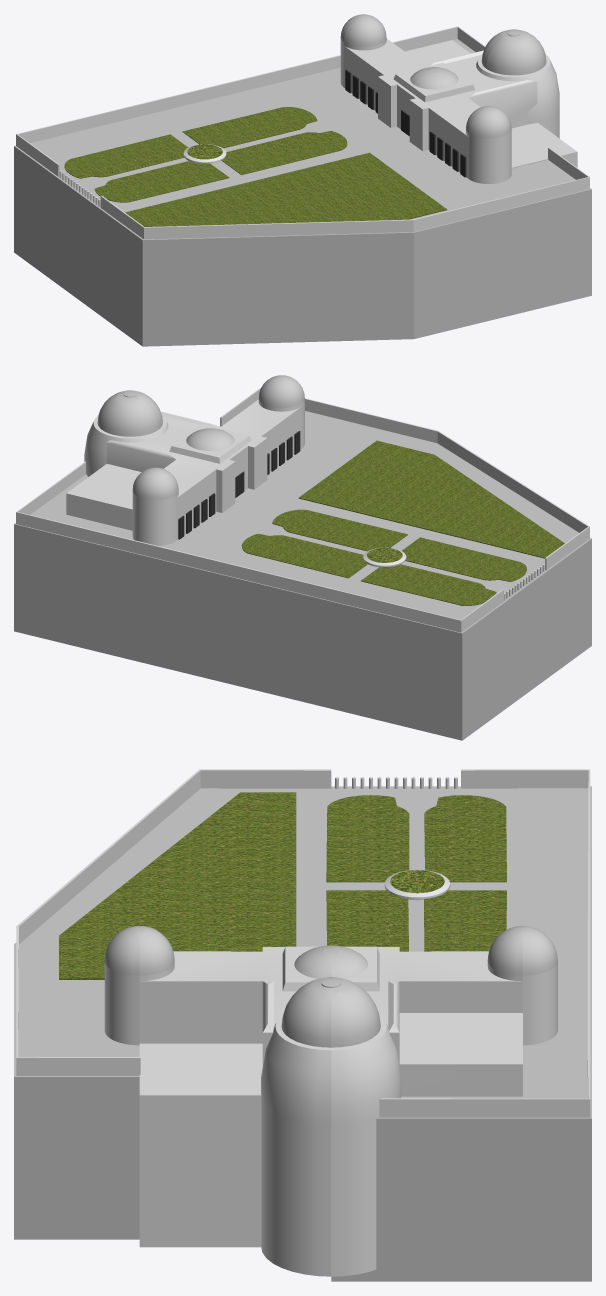
File: Obser.fbx
3 views of the same model, one above another, from view 1: azimuth 30°, elevation 25°; view 2: azimuth 150°, elevation 25°; view 3: azimuth 270°, elevation 25° (orthographic). The views are drawn at different scales.
Visible parts, largest first — view 1: Plane, Grass, Cube, Plane.001, Cylinder.001; view 2: Plane, Grass, Cube, Plane.001, Cylinder.001; view 3: Cube, Plane, Grass, Plane.001, Cylinder.001, Cylinder.002.
Part boxes in pixels (x1,y1,x2,y2): Plane: [14, 39, 591, 346]; Grass: [64, 107, 447, 226]; Cube: [340, 14, 577, 183]; Plane.001: [16, 26, 589, 239]; Cylinder.001: [183, 144, 226, 163]; Plane: [14, 411, 591, 740]; Grass: [241, 440, 564, 605]; Cube: [66, 375, 304, 545]; Plane.001: [16, 387, 589, 632]; Cylinder.001: [363, 547, 406, 567]; Cube: [104, 925, 557, 1276]; Plane: [14, 786, 591, 1281]; Grass: [59, 792, 506, 979]; Plane.001: [16, 769, 590, 1117]; Cylinder.001: [384, 869, 450, 900]; Cylinder.002: [335, 777, 457, 788].
Bounding box in the file's own units: 16348 × 6224 × 11764.
